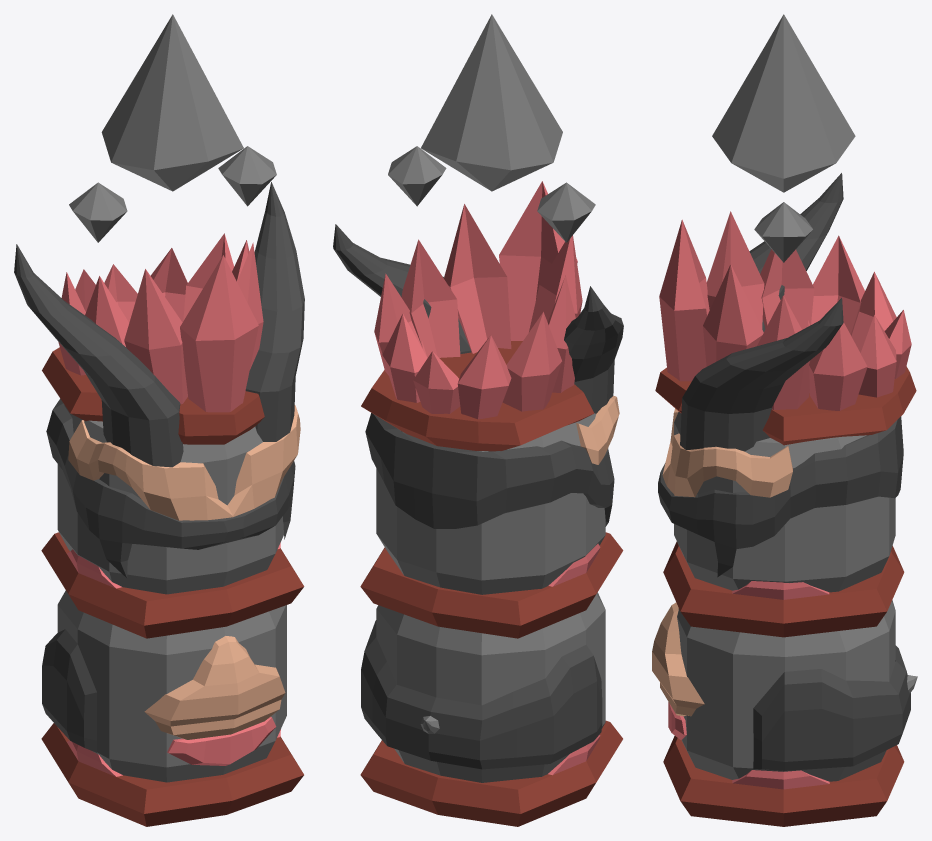
File: Totem_Devil.fbx
3 renders of one model, left to right at view 1: azimuth 30°, elevation 25°; view 2: azimuth 150°, elevation 25°; view 3: azimuth 270°, elevation 25°, orthographic.
Parts seen in each view (by area): view 1: Cylinder.001, Cube, Cube.020, Cube.009, Cube.008, Cube.006, Cube.011, Cube.012, Cube.002, Cube.014, Cube.015, Cube.013 (+9 smaller); view 2: Cube.005, Cube.009, Cube.011, Cube, Cube.020, Cube.008, Cube.006, Cube.013, Cube.015, Cylinder.001, Cube.016, Cube.018 (+7 smaller); view 3: Cube, Cube.009, Cube.020, Cube.005, Cube.011, Cylinder.001, Cube.008, Cube.006, Cube.017, Cube.015, Cube.013, Cube.014 (+8 smaller).
Boxes of the visible parts, box(x1,y1,x2,y2) form: Cylinder.001: box(14, 182, 304, 467); Cube: box(57, 590, 286, 782); Cube.020: box(101, 14, 243, 191); Cube.009: box(57, 405, 283, 594); Cube.008: box(41, 532, 304, 638); Cube.006: box(41, 723, 303, 826); Cube.011: box(46, 398, 295, 578); Cube.012: box(68, 405, 300, 520); Cube.002: box(144, 636, 285, 739); Cube.014: box(180, 255, 258, 412); Cube.015: box(124, 242, 263, 404); Cube.013: box(42, 347, 264, 444); Cube.005: box(361, 620, 602, 769); Cube.009: box(376, 413, 605, 594); Cube.011: box(365, 413, 614, 528); Cube: box(376, 592, 605, 782); Cube.020: box(421, 14, 562, 191); Cube.008: box(360, 532, 623, 638); Cube.006: box(360, 720, 622, 826); Cube.013: box(361, 341, 594, 451); Cube.015: box(444, 204, 582, 353); Cylinder.001: box(333, 224, 623, 413); Cube.016: box(401, 239, 575, 392); Cube.018: box(382, 313, 511, 419); Cube: box(677, 600, 895, 781); Cube.009: box(674, 412, 895, 592); Cube.020: box(712, 14, 855, 192); Cube.005: box(753, 645, 910, 770); Cube.011: box(658, 416, 903, 577); Cylinder.001: box(680, 173, 843, 451); Cube.008: box(663, 541, 904, 637); Cube.006: box(663, 736, 904, 826); Cube.017: box(808, 235, 867, 410); Cube.015: box(703, 211, 764, 366); Cube.013: box(655, 366, 916, 445); Cube.014: box(659, 219, 709, 381).
Bounding box in the file's own units: 73.6 × 201 × 63.14.
